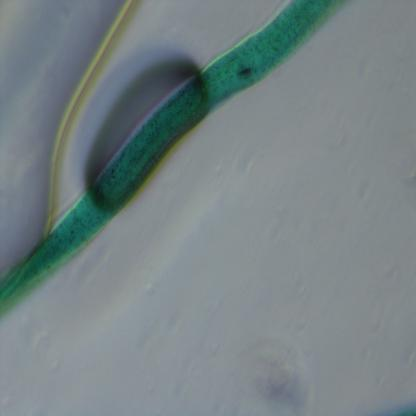Air bubble: (42, 0, 136, 235)
Background material: (240, 337, 317, 414)
Microfibre: (0, 0, 347, 318)
